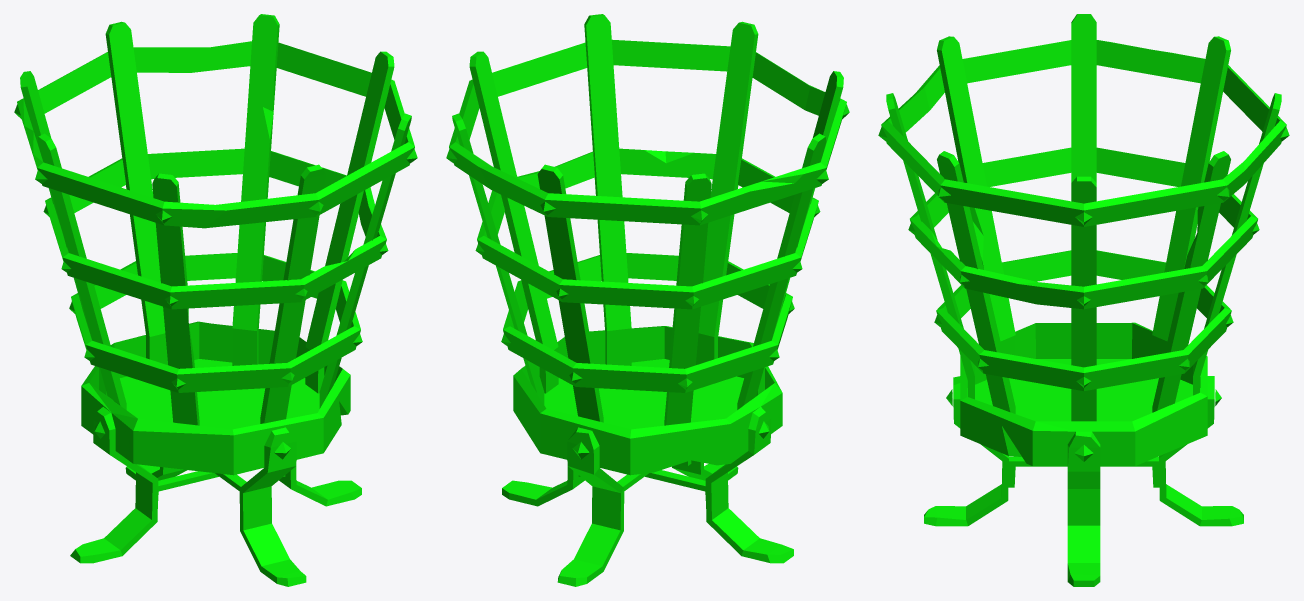
File: SM_Fire_Bin_C_Fantasy.fbx
3 renders of one model, left to right at view 1: azimuth 30°, elevation 25°; view 2: azimuth 150°, elevation 25°; view 3: azimuth 270°, elevation 25°, orthographic.
Parts seen in each view (by area): view 1: fire-bin-c-fantasy; view 2: fire-bin-c-fantasy; view 3: fire-bin-c-fantasy.
Part boxes in pixels (box(x1,y1,x2,y2)): fire-bin-c-fantasy: box(14, 14, 417, 586); fire-bin-c-fantasy: box(446, 14, 849, 586); fire-bin-c-fantasy: box(878, 14, 1289, 586).
Bounding box in the file's own units: 0.5736 × 0.6515 × 0.5736.
